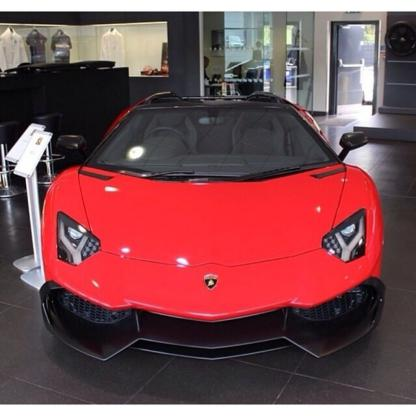Car: (38, 91, 386, 361)
